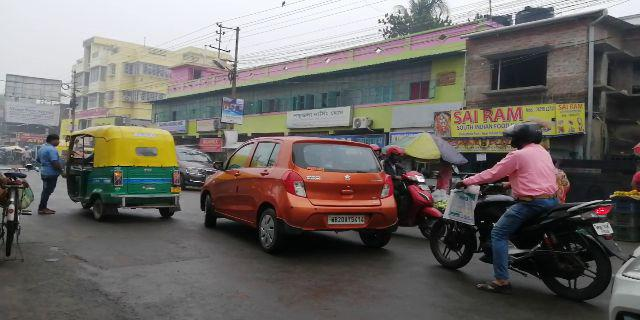Autorickshaw: (68, 122, 187, 215)
Car: (203, 134, 401, 246)
Motorbike: (427, 121, 617, 296), (380, 143, 438, 240)
